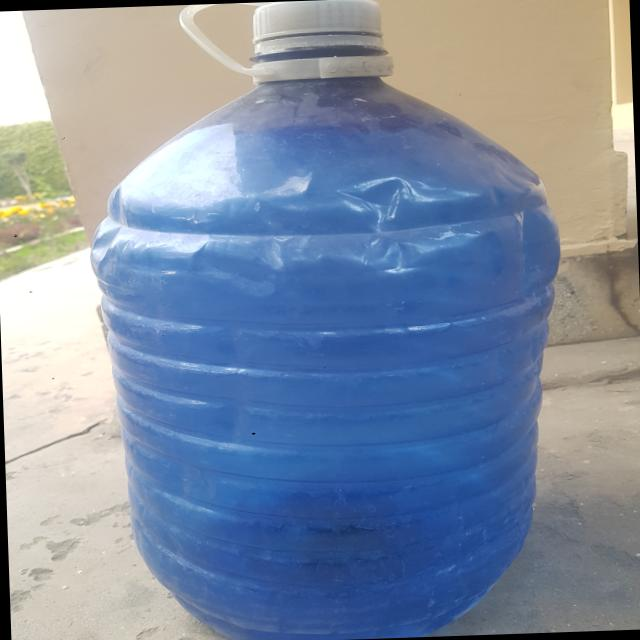general: (79, 0, 575, 640)
